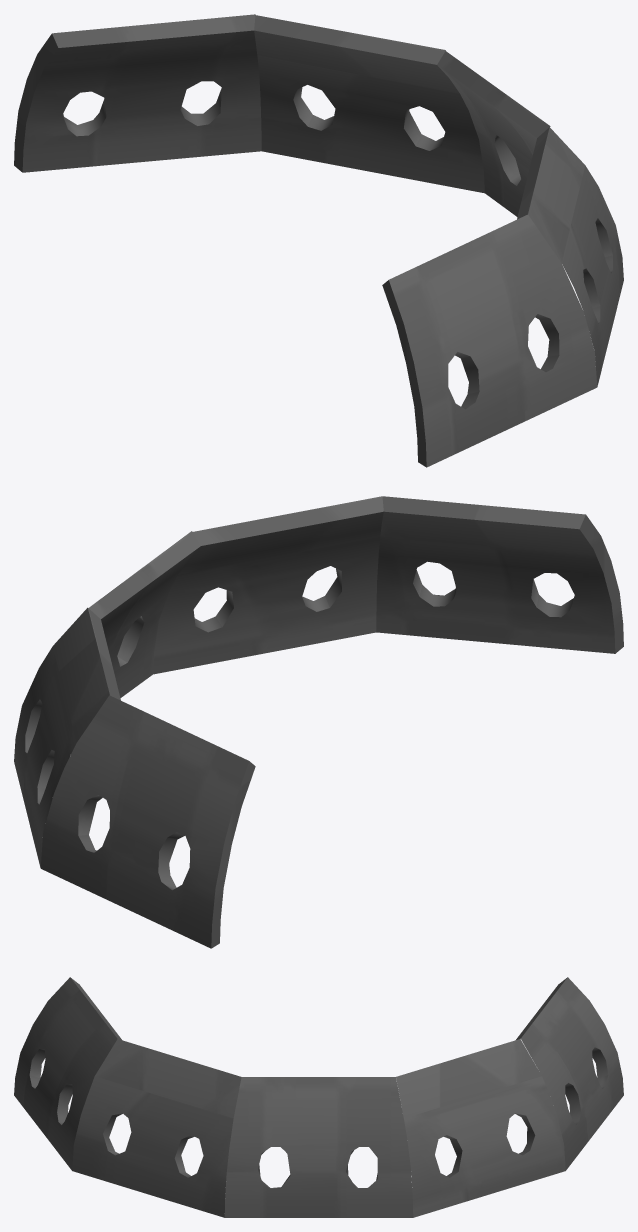
The model's file is Ding_7_a8f080.glb.
3 views of the same model, one above another, from view 1: azimuth 30°, elevation 25°; view 2: azimuth 150°, elevation 25°; view 3: azimuth 270°, elevation 25° (orthographic). The views are drawn at different scales.
Parts seen in each view (by area): view 1: Ding_7; view 2: Ding_7; view 3: Ding_7.
Part boxes in pixels (x1,y1,x2,y2): Ding_7: [14, 14, 623, 467]; Ding_7: [14, 496, 623, 948]; Ding_7: [14, 977, 623, 1217].
Bounding box in the file's own units: 4.76 × 2.16 × 10.01.
1 material, 1 textured.
